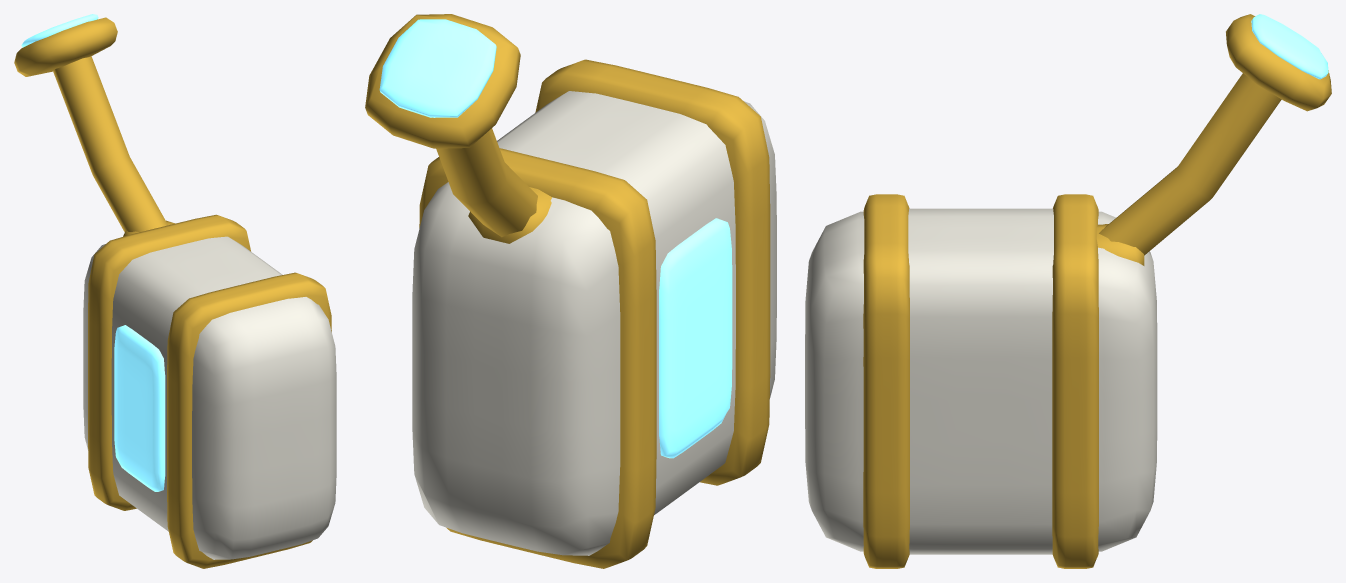
Rendered from gardener-kit.glb.
3 renders of one model, left to right at view 1: azimuth 30°, elevation 25°; view 2: azimuth 150°, elevation 25°; view 3: azimuth 270°, elevation 25°, orthographic. The views are drawn at different scales.
Parts seen in each view (by area): view 1: gardener-kit; view 2: gardener-kit; view 3: gardener-kit.
Boxes of the visible parts, <box> form: gardener-kit: <box>14,14,336,568</box>; gardener-kit: <box>365,14,776,568</box>; gardener-kit: <box>805,14,1331,568</box>.
Size of the model in its own units: 0.166 by 0.4433 by 0.4188.
